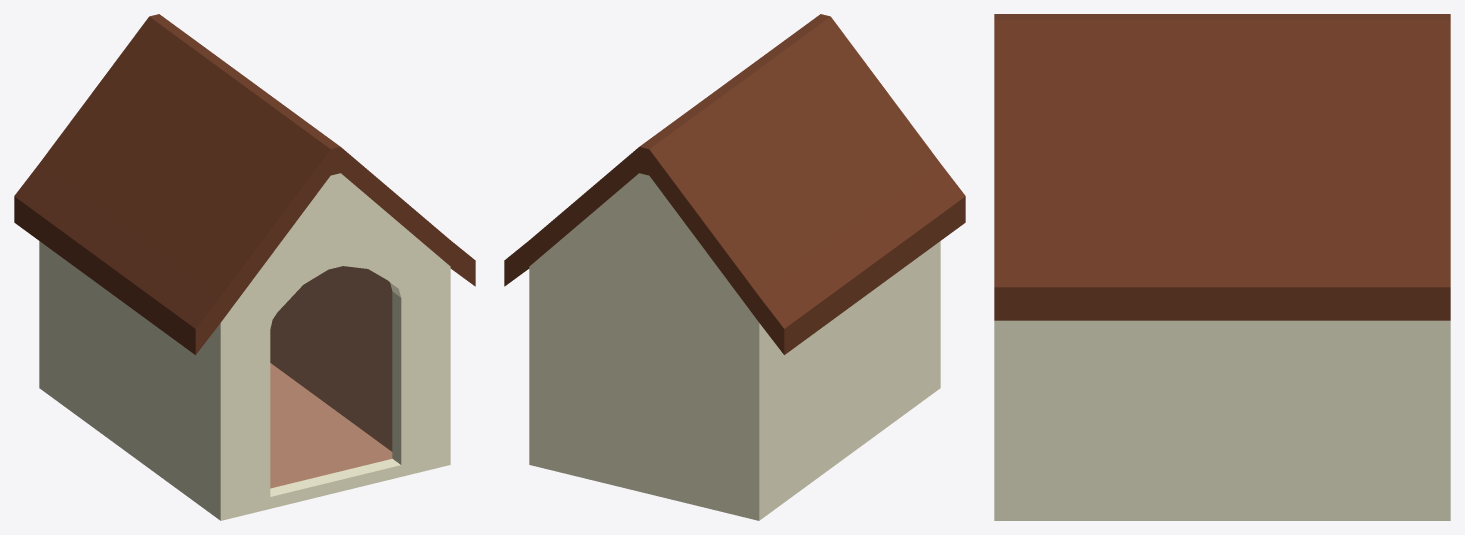
Rendered from Casota.FBX.
3 renders of one model, left to right at view 1: azimuth 30°, elevation 25°; view 2: azimuth 150°, elevation 25°; view 3: azimuth 270°, elevation 25°, orthographic. The views are drawn at different scales.
Parts seen in each view (by area): view 1: Box006; view 2: Box006; view 3: Box006.
Boxes of the visible parts, x1,y1,x2,y2 form: Box006: [14, 14, 475, 520]; Box006: [504, 14, 965, 520]; Box006: [994, 14, 1450, 520].
Bounding box in the file's own units: 12.19 × 14.34 × 13.67.
